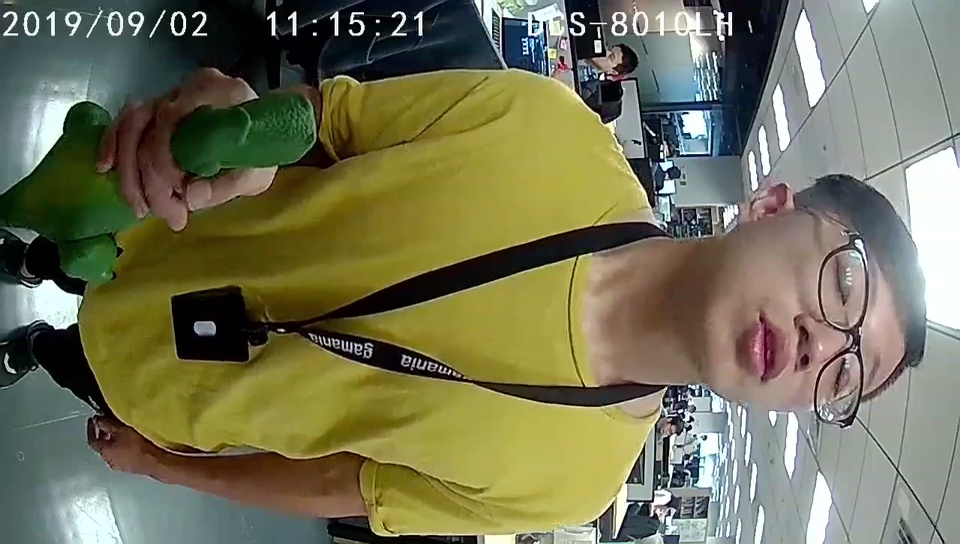rex: (60, 96, 316, 280)
